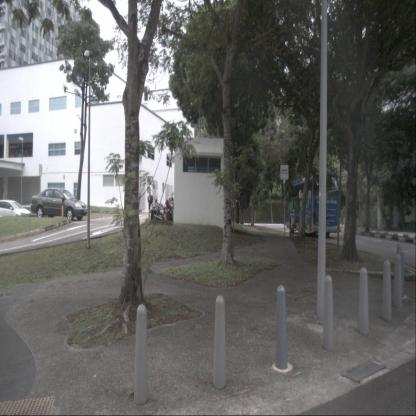vehicle-bus-rigid: (286, 175, 340, 235)
vehicle-car: (30, 188, 87, 219), (0, 199, 30, 219)
vehicle-motorcycle: (151, 198, 175, 222)
